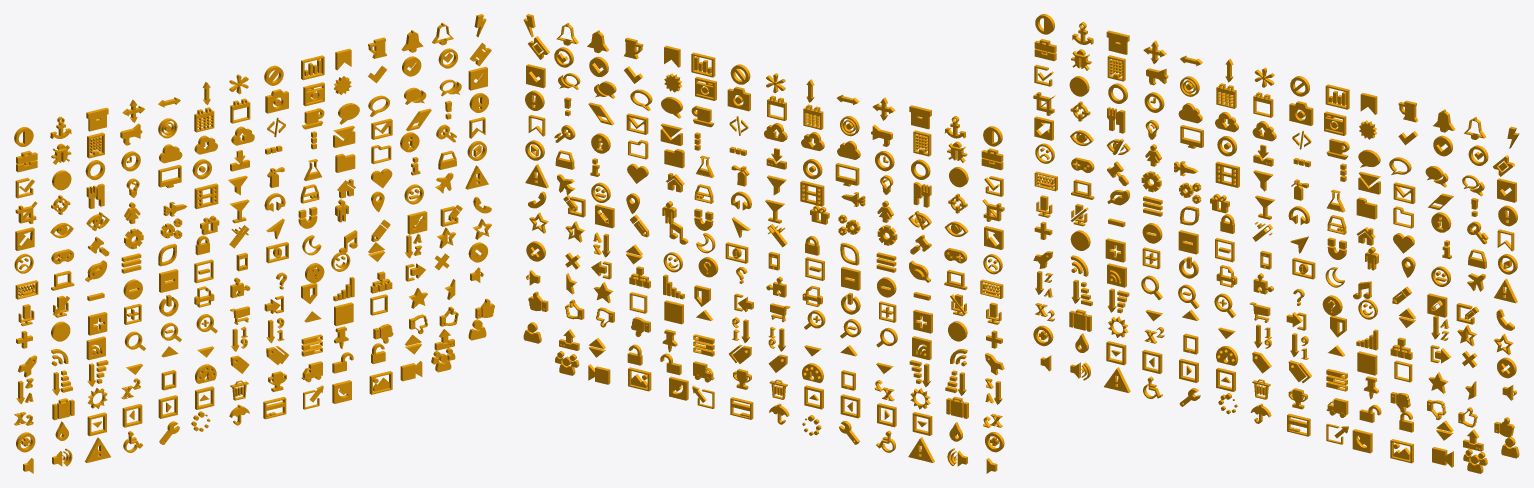
Rendered from icons.fbx.
3 views of the same model, side by side, from view 1: azimuth 30°, elevation 25°; view 2: azimuth 150°, elevation 25°; view 3: azimuth 330°, elevation 25° (orthographic). The views are drawn at different scales.
Size of the model in its own units: 13.41 by 9.49 by 0.5273.
